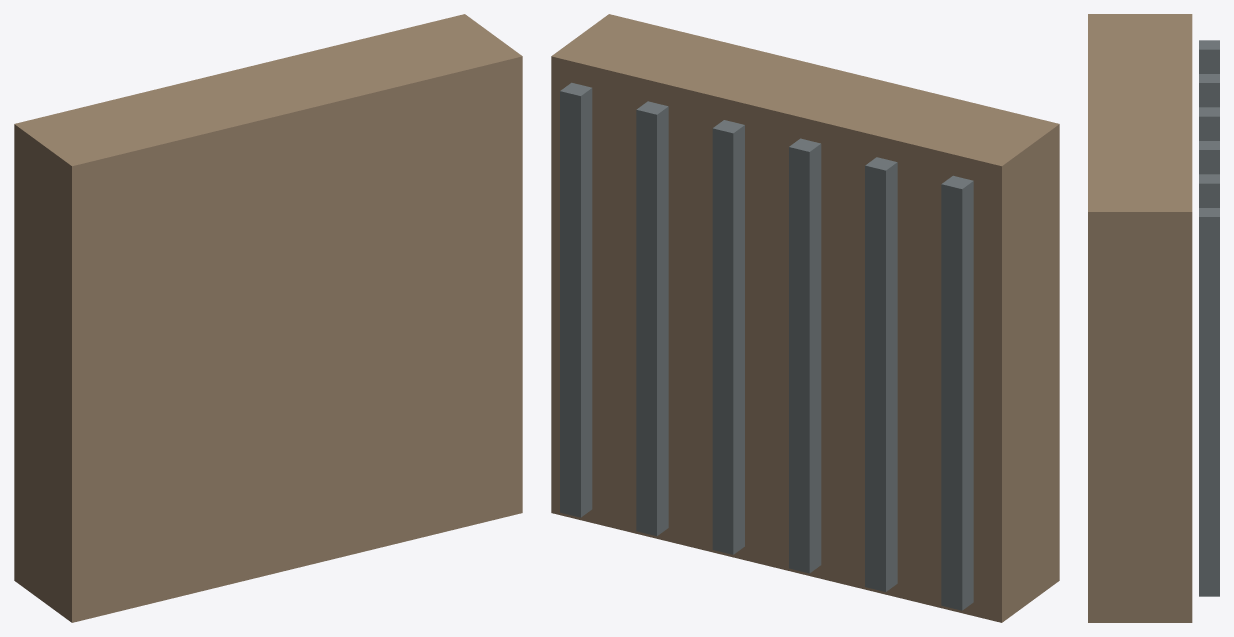
Rendered from iz2_defense_searchlight.glb.
3 renders of one model, left to right at view 1: azimuth 30°, elevation 25°; view 2: azimuth 150°, elevation 25°; view 3: azimuth 270°, elevation 25°, orthographic. The views are drawn at different scales.
Parts seen in each view (by area): view 1: body; view 2: body; view 3: body.
Boxes of the visible parts, box(x1,y1,x2,y2) form: body: box(14, 14, 522, 622); body: box(551, 14, 1059, 622); body: box(1088, 14, 1219, 622).
Bounding box in the file's own units: 1.34 × 1.29 × 0.3762.
